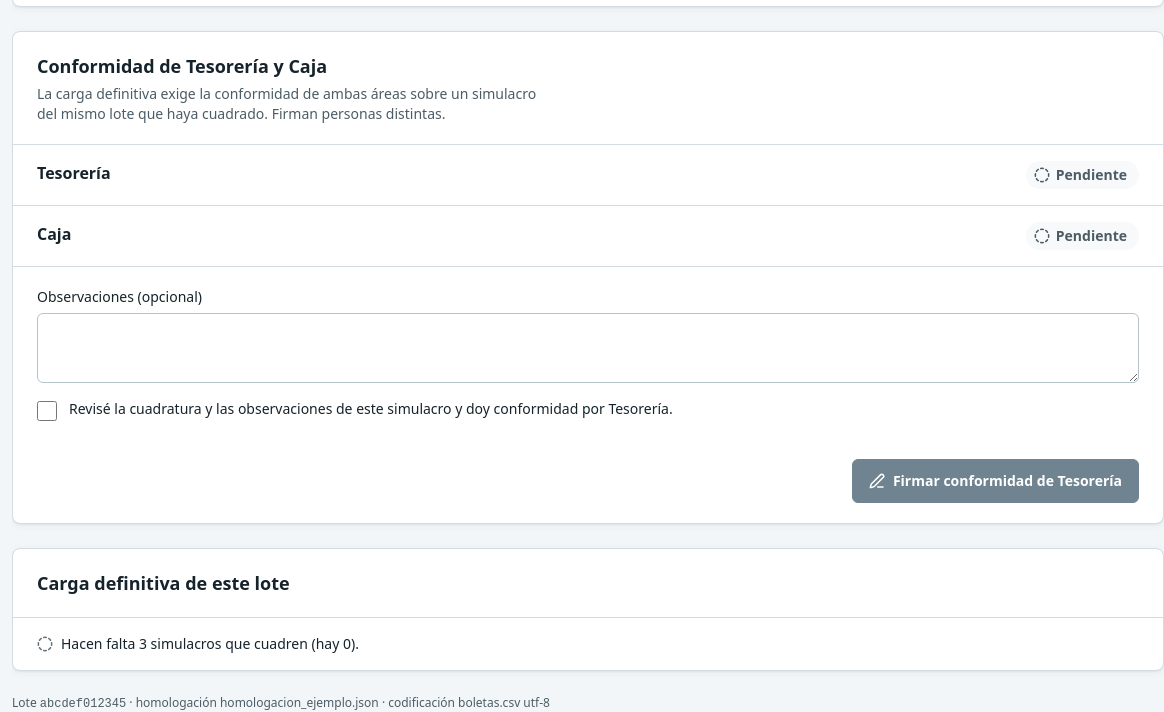
it: migración › Tesorería firma un simulacro que cuadró, tras tildar la revisión
The image size is (1164, 712).
(page scrolled)
Expected: the button "Firmar conformidad de Tesorería" is disabled, [852,459,1139,503]
Click the checkbox labelled "Revisé la cuadratura y las observaciones": (47, 411) [37,401,57,421]
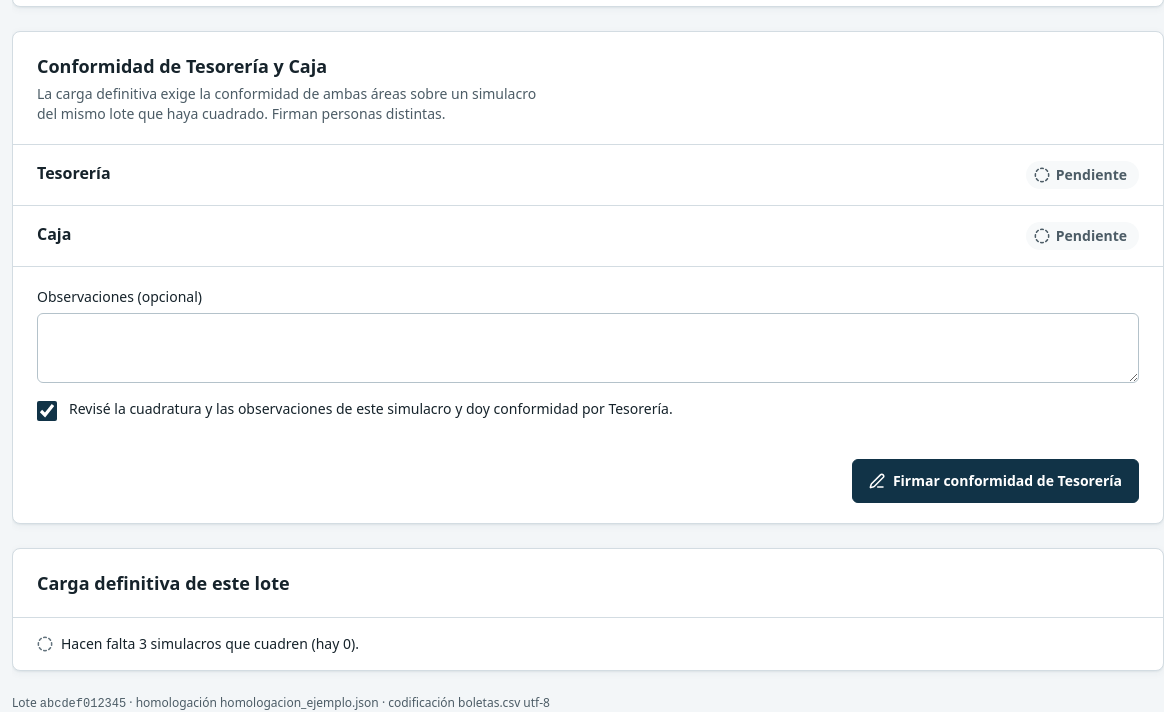
Click the button "Firmar conformidad de Tesorería": (995, 481) [852,459,1139,503]
(page scrolled)
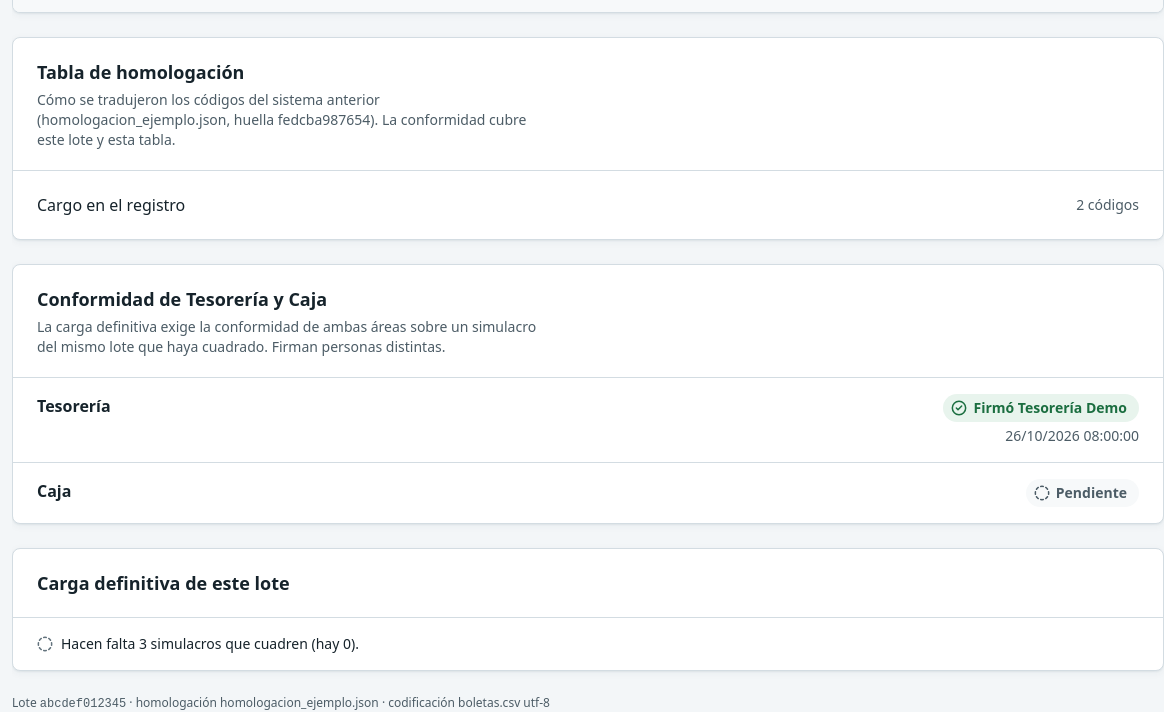
Result: the text "Firmó Tesorería Demo" is shown at [944,394,1139,422]
